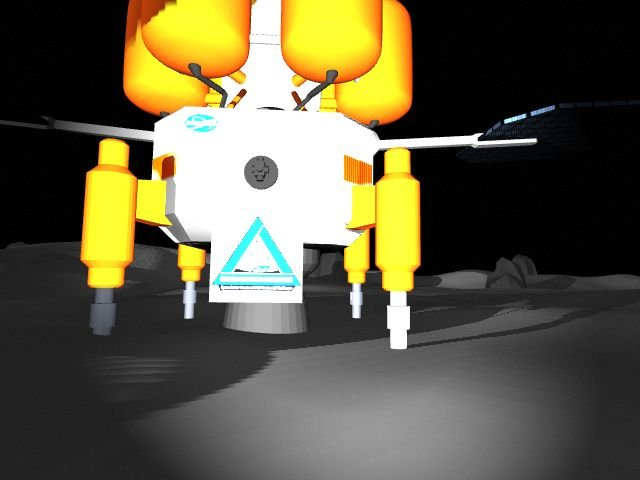basemarker: (211, 215, 301, 293)
